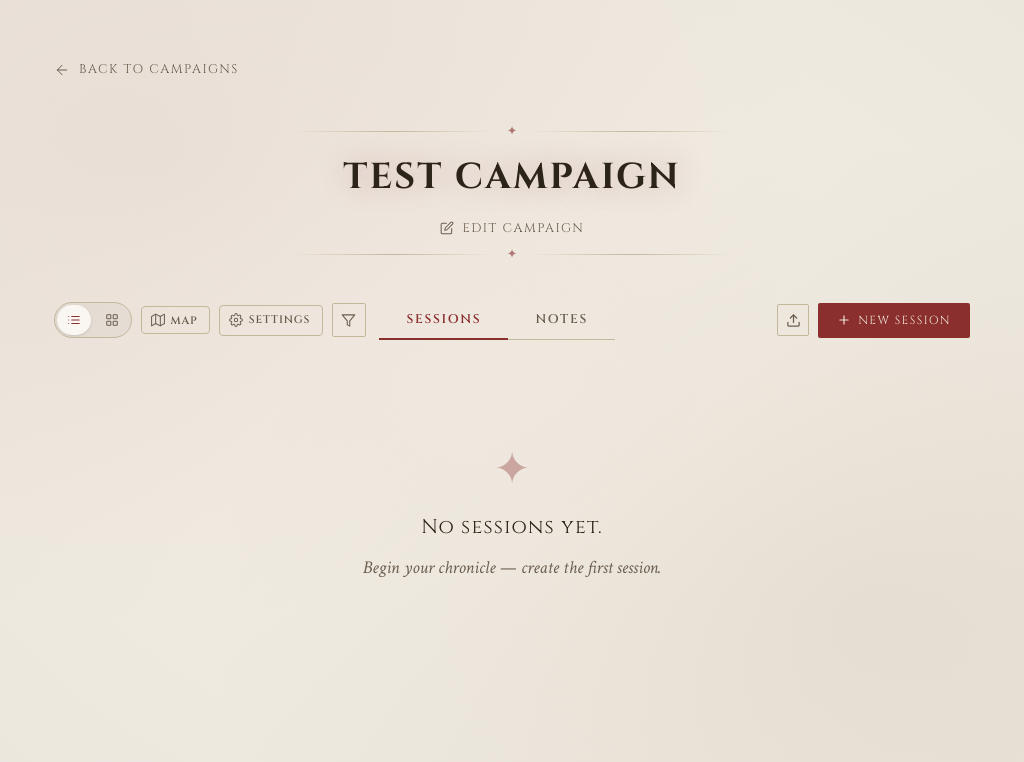
Test: Editor — filter panel › should show filter panel when filter toggle is clicked
Click the button named "Toggle filters": (349, 320) [332,303,366,337]
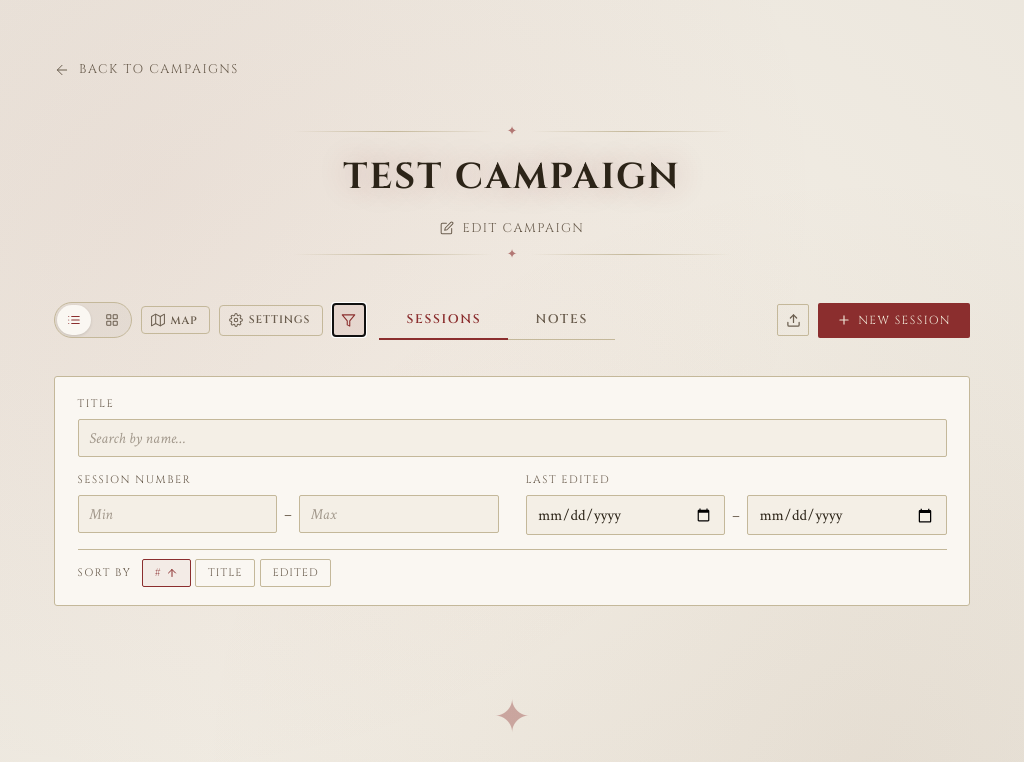
Expected: the field with placeholder "Search by name…" is shown, [78,419,946,458]
